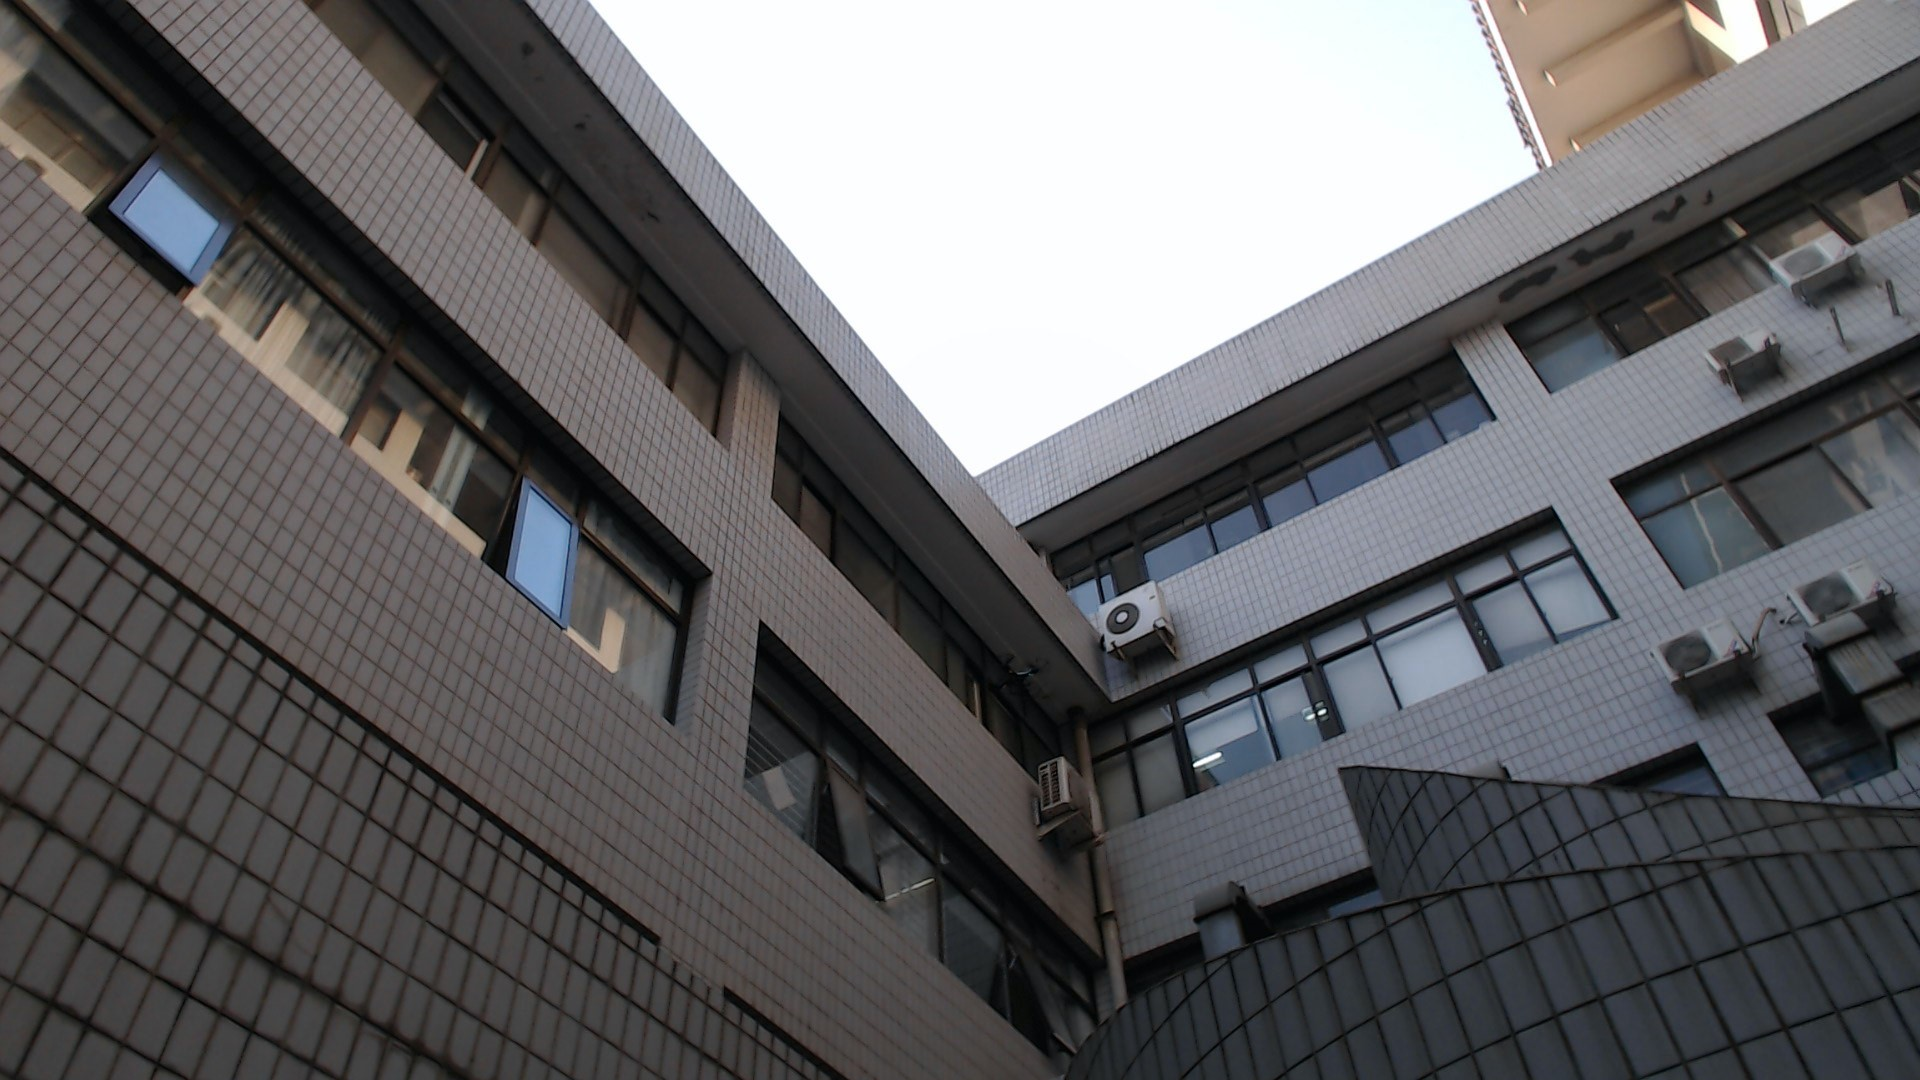drone: (971, 632, 1068, 713)
